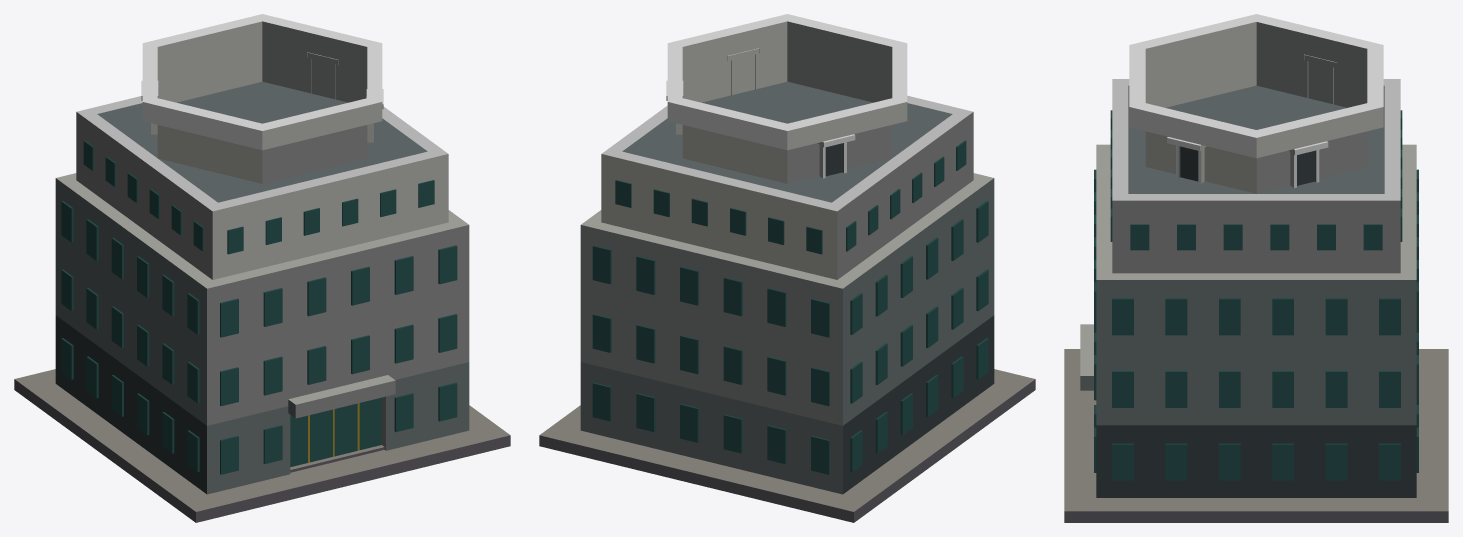
File: TB_CITY_Skysc_H_Bottom_Green.FBX
3 views of the same model, side by side, from view 1: azimuth 30°, elevation 25°; view 2: azimuth 150°, elevation 25°; view 3: azimuth 270°, elevation 25° (orthographic). The views are drawn at different scales.
Visible parts, largest first — view 1: TB_CITY_Skysc_H_Bottom_Green; view 2: TB_CITY_Skysc_H_Bottom_Green; view 3: TB_CITY_Skysc_H_Bottom_Green.
Part boxes in pixels (x1,y1,x2,y2): TB_CITY_Skysc_H_Bottom_Green: (14, 14, 510, 522); TB_CITY_Skysc_H_Bottom_Green: (539, 14, 1035, 522); TB_CITY_Skysc_H_Bottom_Green: (1064, 14, 1448, 522).
Bounding box in the file's own units: 24 × 25.19 × 24.
